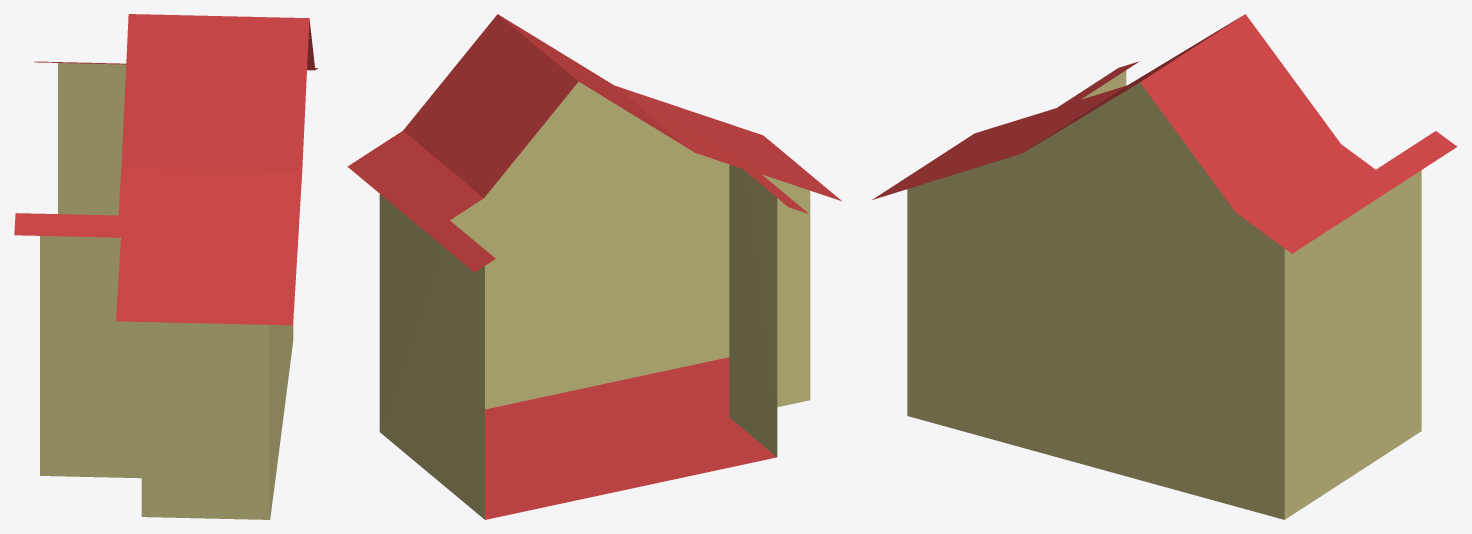
3 renders of one model, left to right at view 1: azimuth 30°, elevation 25°; view 2: azimuth 150°, elevation 25°; view 3: azimuth 270°, elevation 25°, orthographic. The views are drawn at different scales.
Size of the model in its own units: 13.76 by 16.98 by 13.14.
